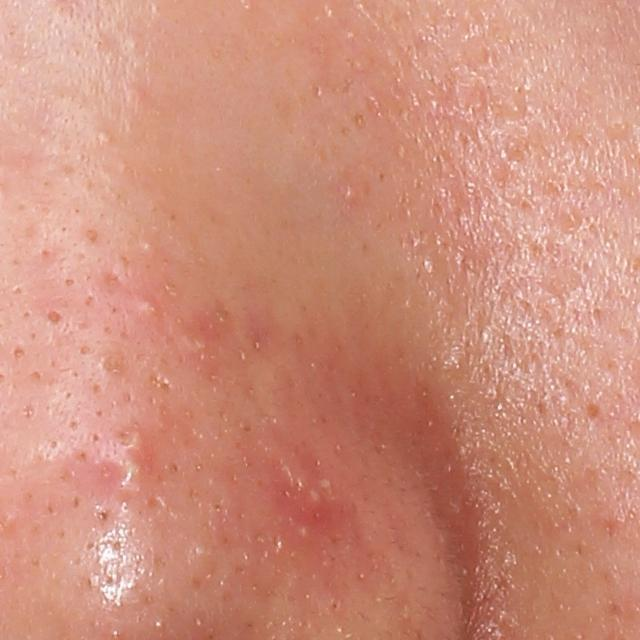comedo: (95, 351, 126, 381), (43, 306, 68, 329), (95, 127, 114, 148), (10, 343, 30, 361), (76, 341, 95, 357)
papule: (135, 297, 160, 321)
